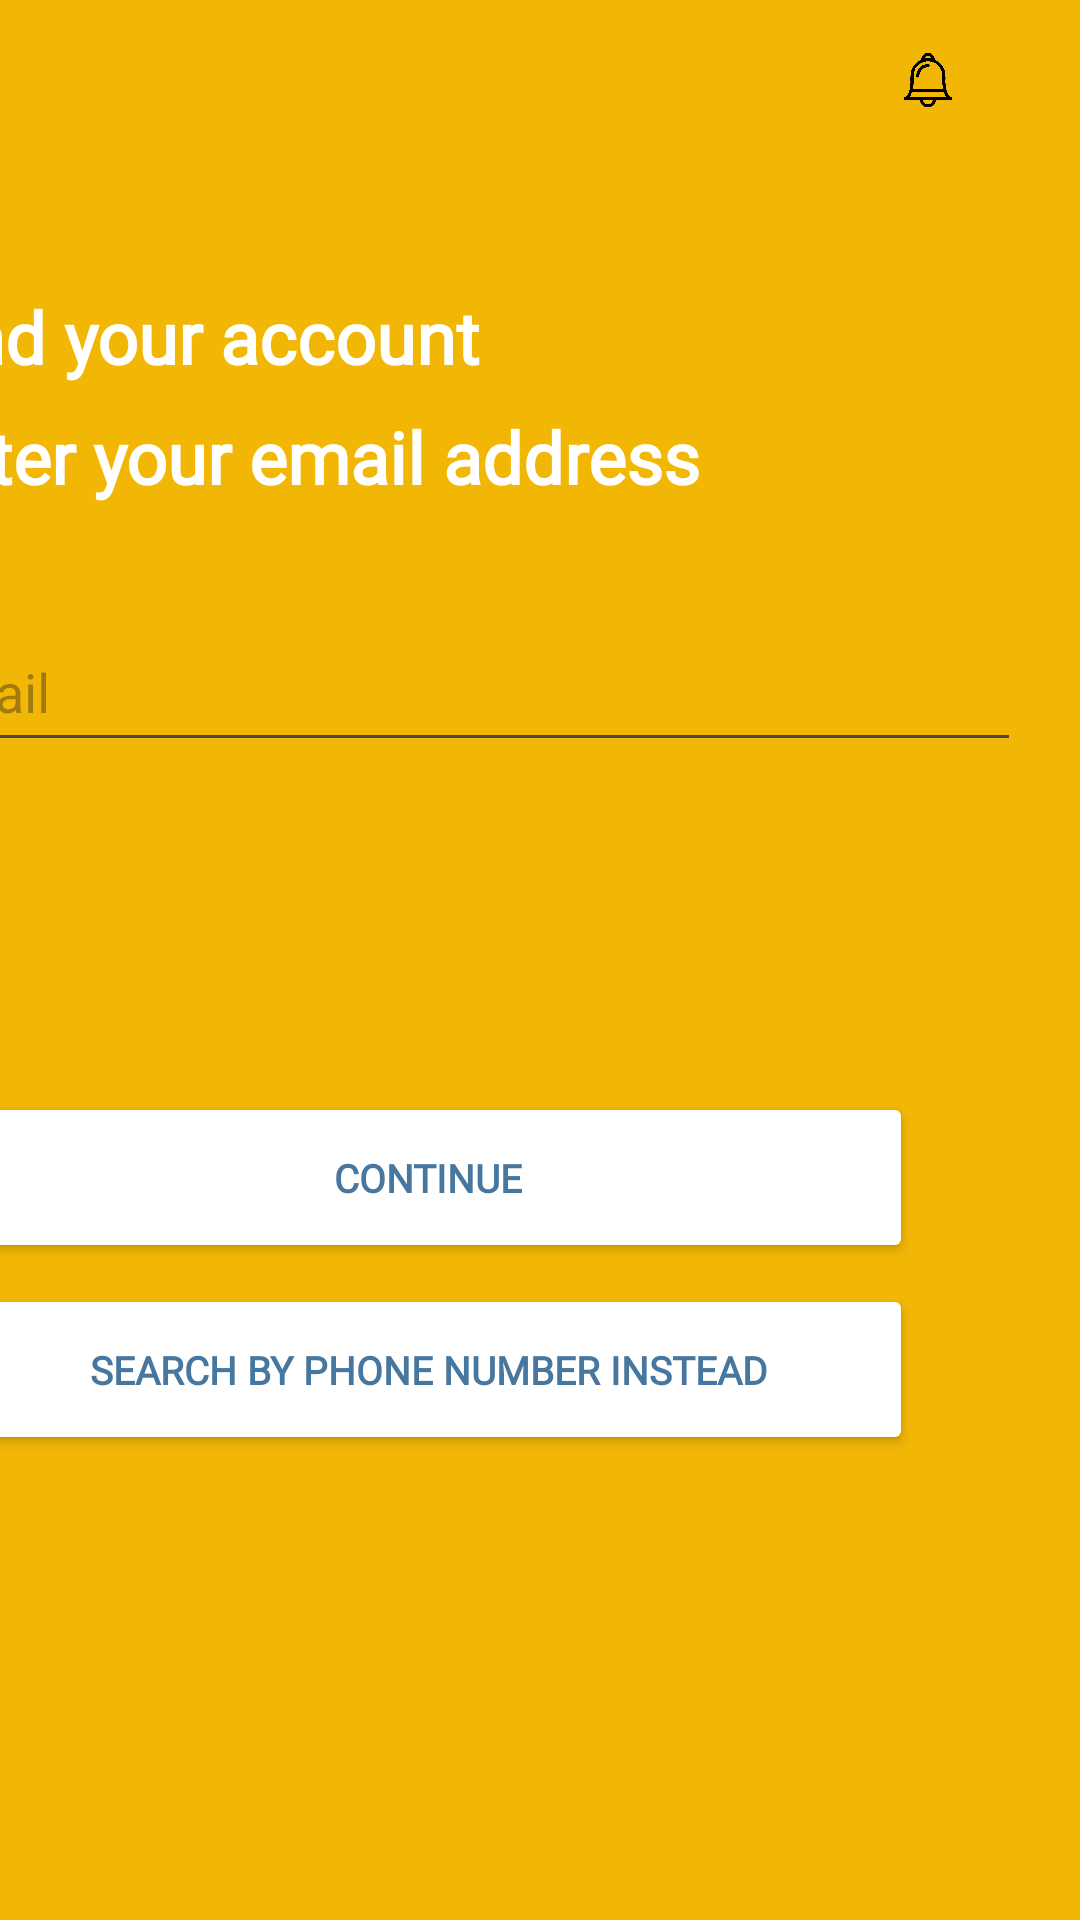

Where icons sit on this 1080×1920 app screen, as box(x1, y1, x2, y2):
bellicon: box(904, 53, 952, 107)
